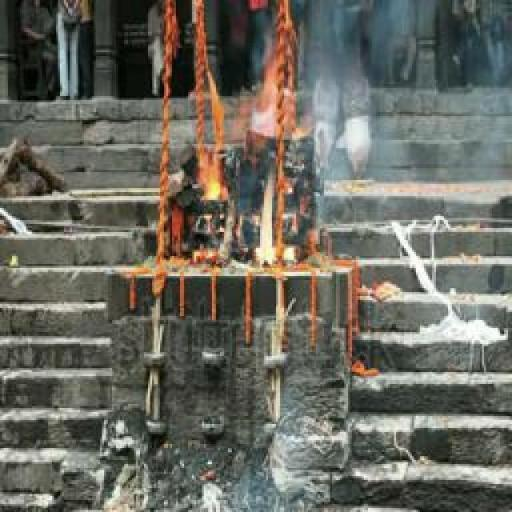smoke: (191, 70, 292, 266)
